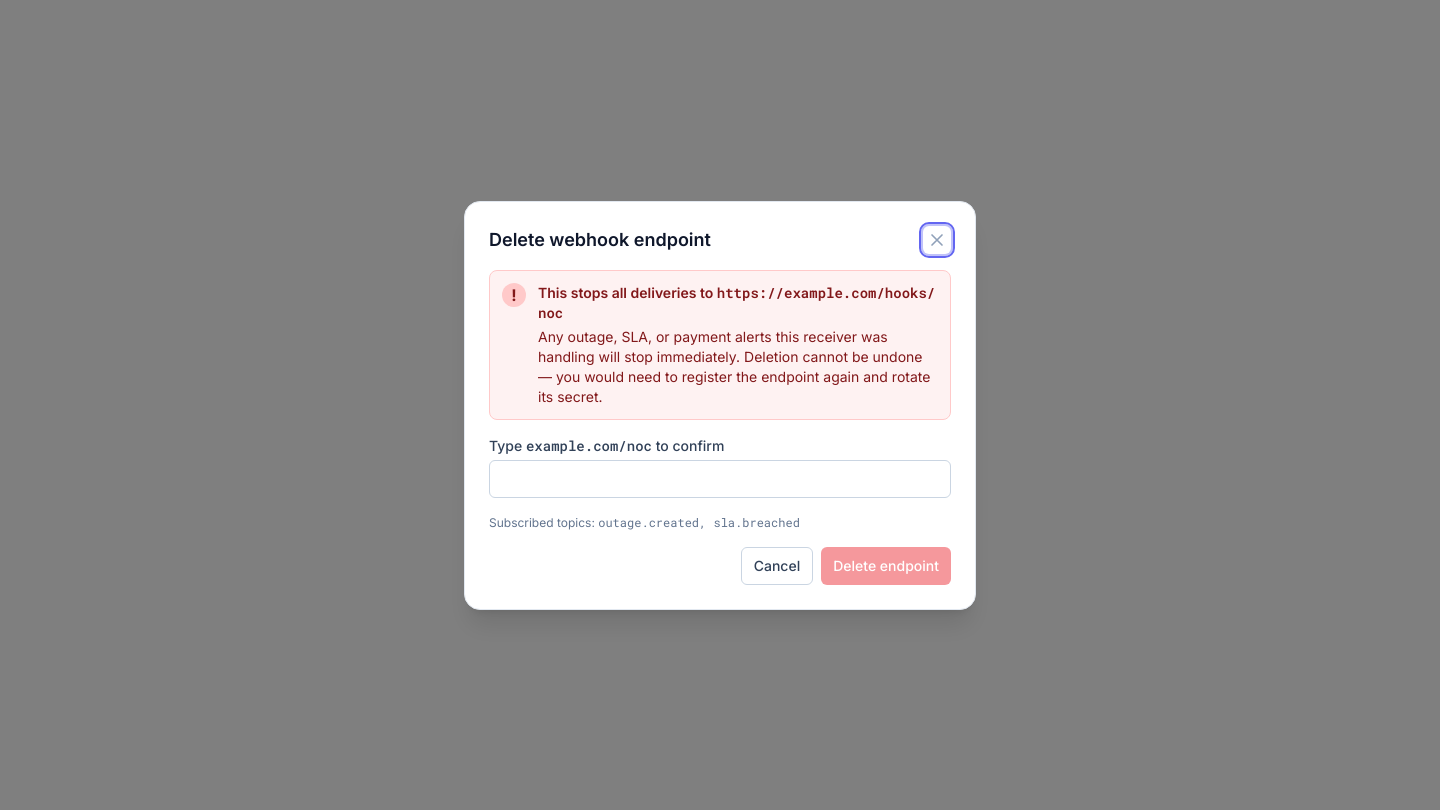
it: DeleteWebhookModal › enables Delete on an exact match
This screenshot has width=1440, height=810.
Type "example.com/noc" into the field with test id "delete-confirm-input".
click(720, 478); type("example.com/noc")  # box [489,460,951,498]
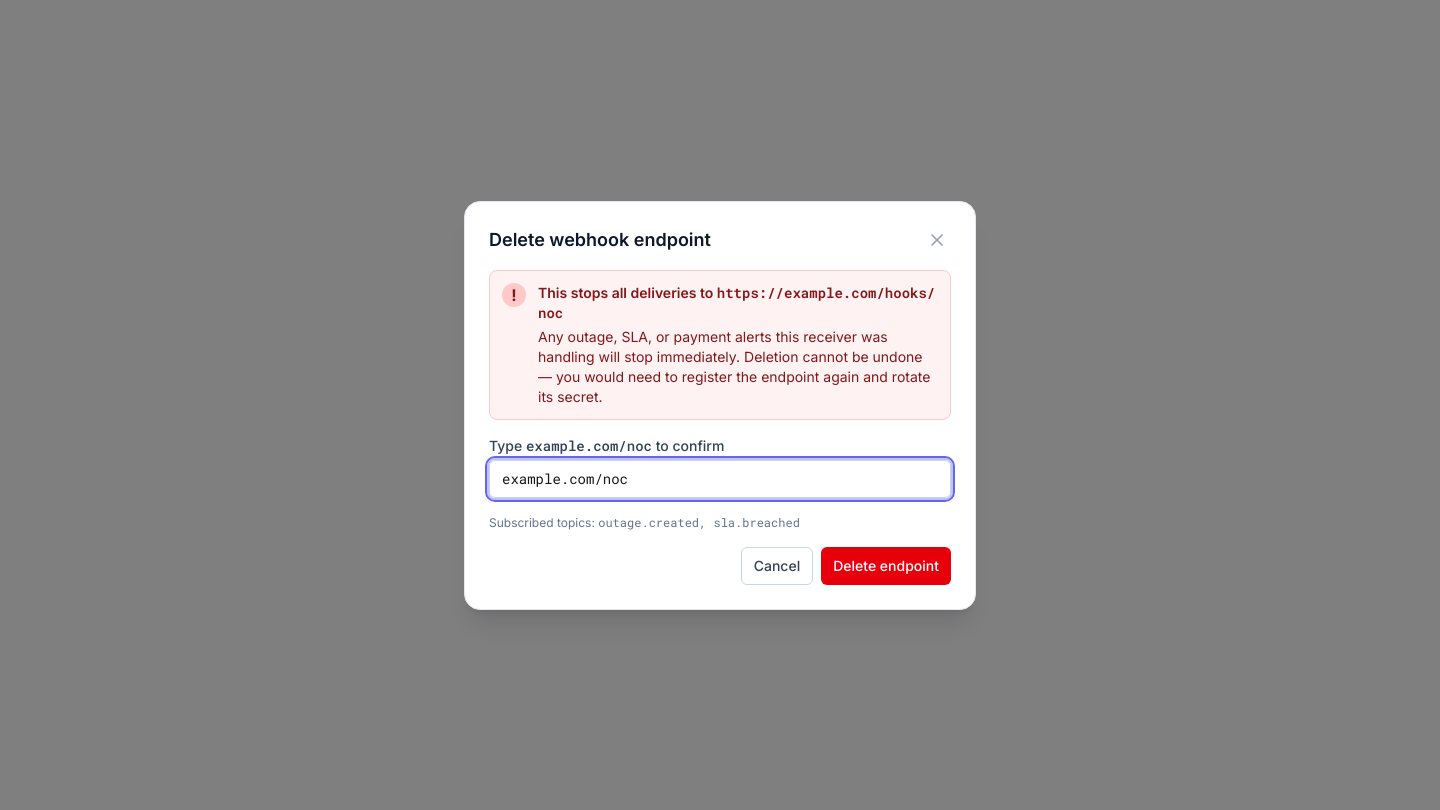
Result: the button with test id "delete-confirm-button" is enabled at [821,546,951,584]
